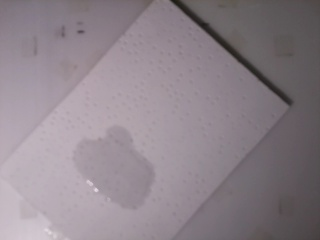Water_detected: (79, 139, 139, 197)
